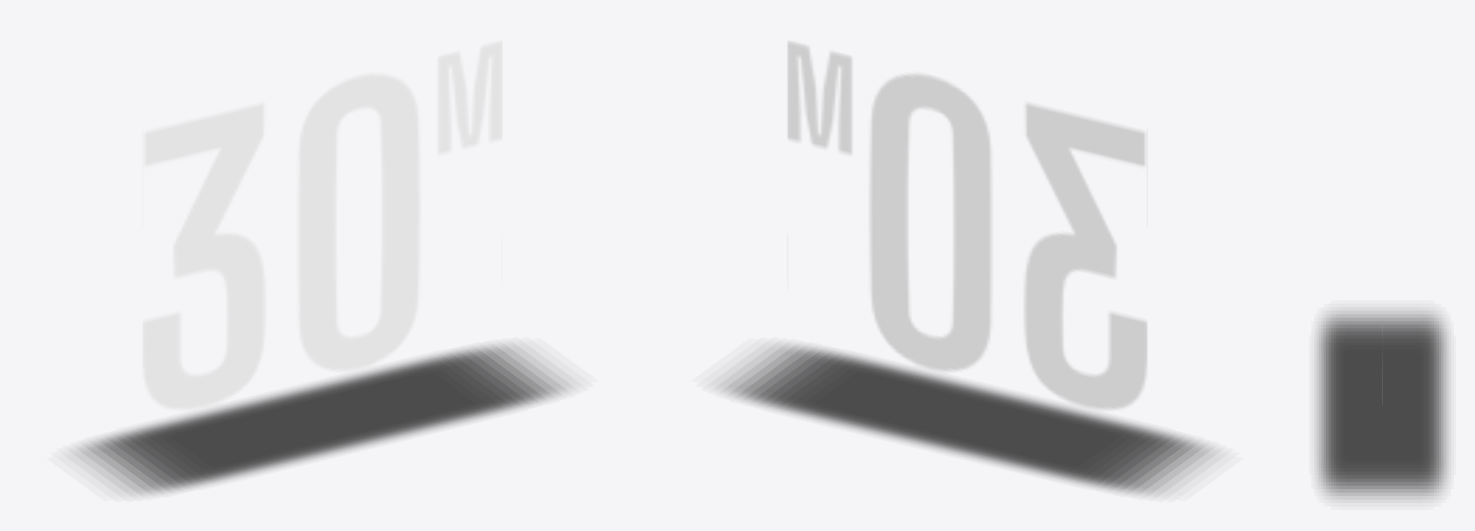
File: 01_field_distance_num.glb
3 views of the same model, side by side, from view 1: azimuth 30°, elevation 25°; view 2: azimuth 150°, elevation 25°; view 3: azimuth 270°, elevation 25° (orthographic). The views are drawn at different scales.
Parts seen in each view (by area): view 1: field_dist_30m, shadow_distance_rect; view 2: field_dist_30m, shadow_distance_rect; view 3: shadow_distance_rect.
Part boxes in pixels (x1,y1,x2,y2): field_dist_30m: (142, 40, 502, 411); shadow_distance_rect: (74, 345, 570, 494); field_dist_30m: (787, 40, 1147, 411); shadow_distance_rect: (719, 345, 1215, 494); shadow_distance_rect: (1316, 311, 1448, 499).
Bounding box in the file's own units: 1.4 × 0.9183 × 0.4142.
2 materials, 2 textured.
